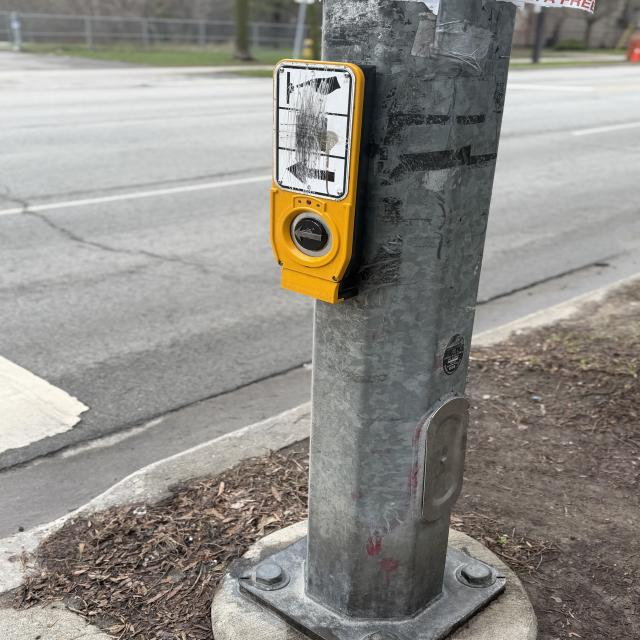Electrical Pole: (233, 0, 527, 639)
